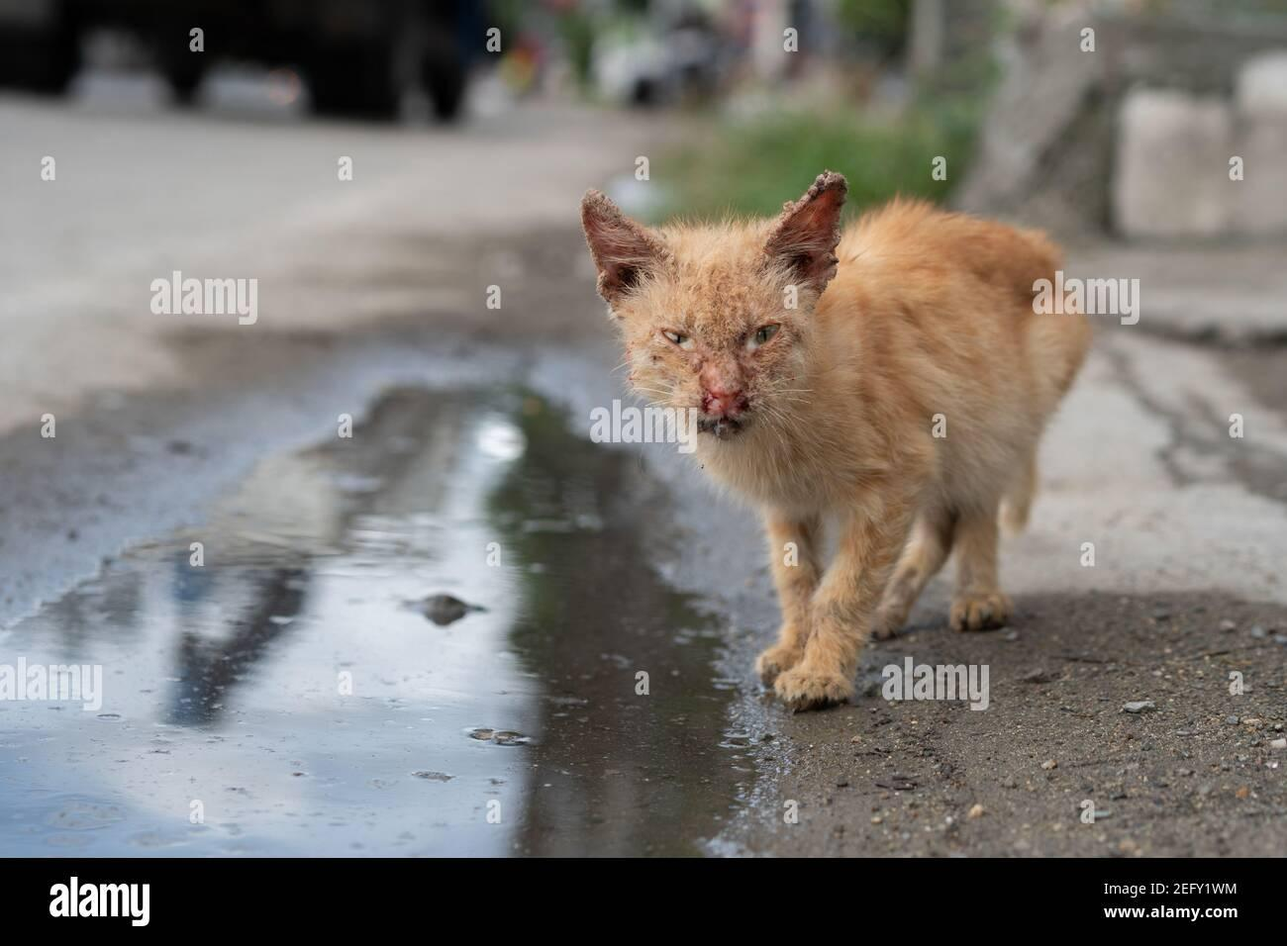infection: (675, 312, 786, 451)
